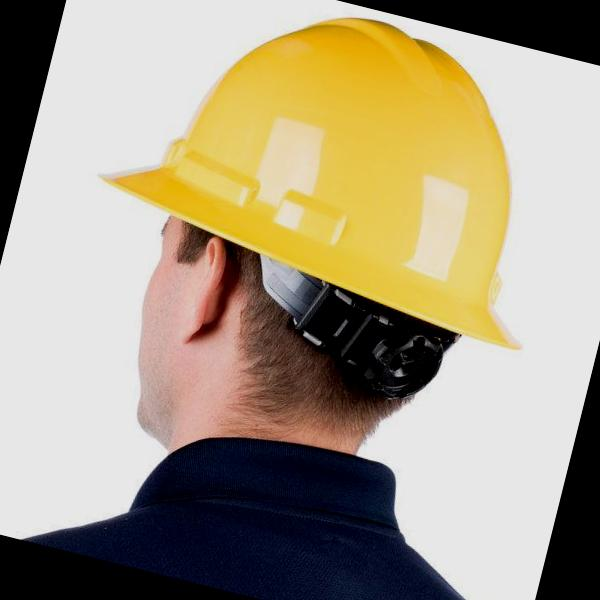helmet: (84, 0, 599, 365)
person: (5, 0, 600, 600)
